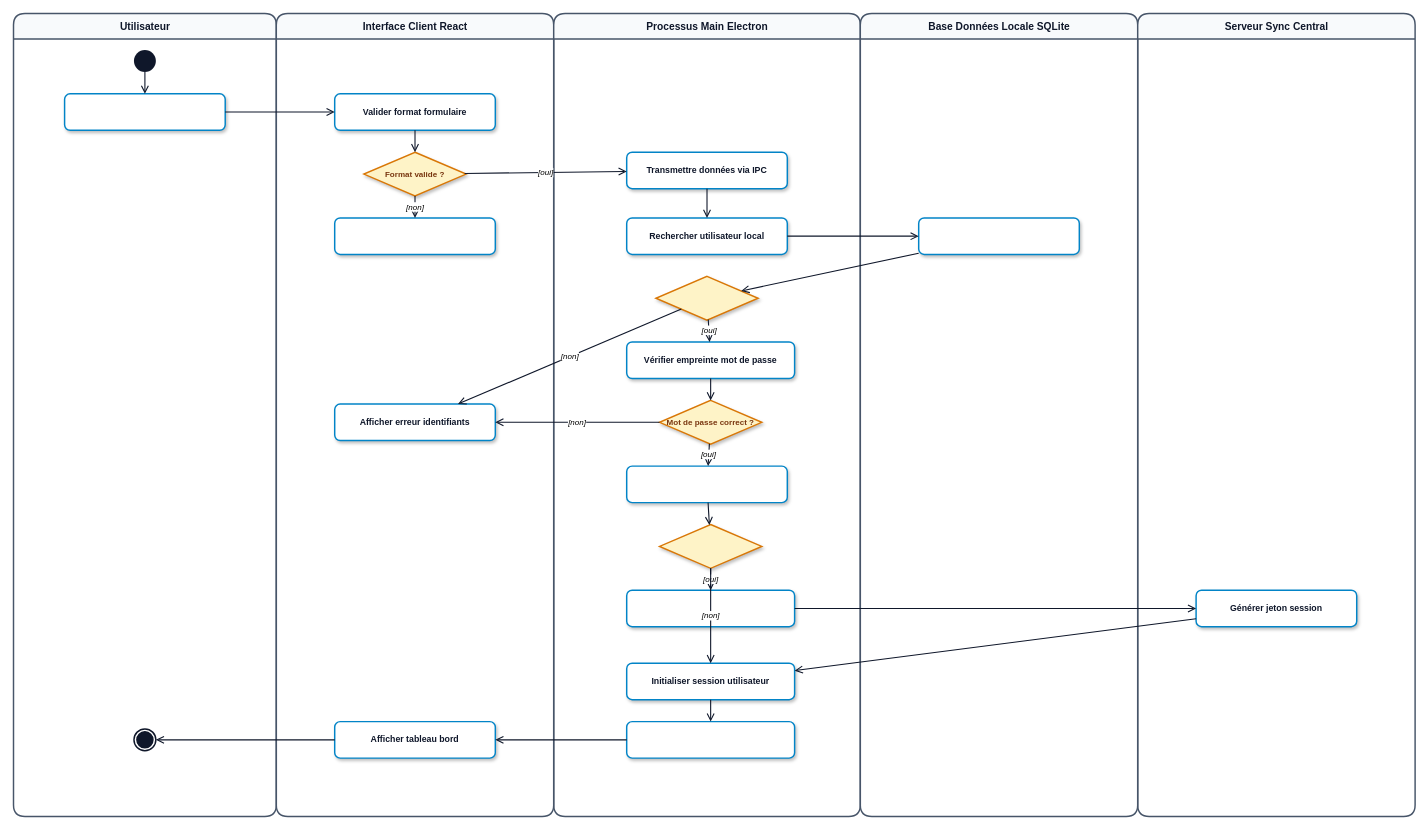
Some shapes in this 1428 by 829 pixel diagram are drawn without their labels. Each missing label, with the centre of its shape:
"Afficher erreur format" belongs at [415,237].
"Interroger table utilisateurs" belongs at [999,237].
"Ouvrir canal synchronisation" belongs at [711,741].
"Réseau disponible ?" belongs at [711,547].
"Saisir identifiants connexion" belongs at [145,113].
"Transmettre requête au serveur" belongs at [711,609].
"Utilisateur existant ?" belongs at [707,299].
"Vérifier connectivité réseau" belongs at [707,485].
